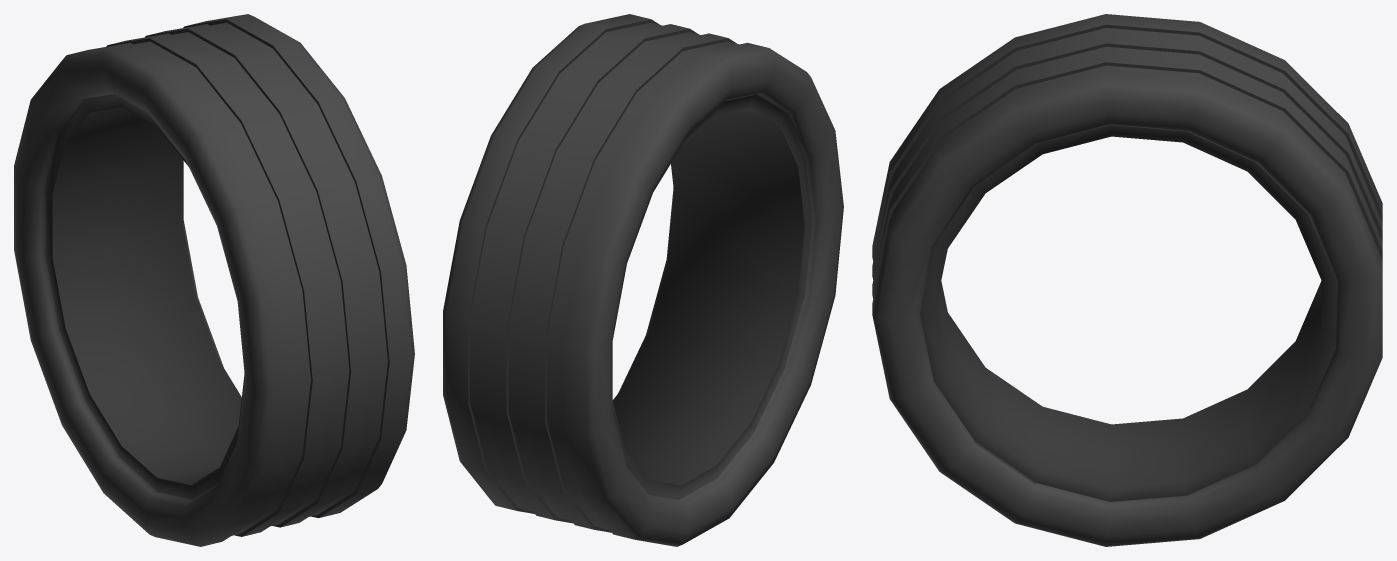
File: Tire.FBX
3 renders of one model, left to right at view 1: azimuth 30°, elevation 25°; view 2: azimuth 150°, elevation 25°; view 3: azimuth 270°, elevation 25°, orthographic.
Visible parts, largest first — view 1: Cylinder001; view 2: Cylinder001; view 3: Cylinder001.
Boxes of the visible parts, x1,y1,x2,y2 form: Cylinder001: (14,14,414,546); Cylinder001: (443,14,843,546); Cylinder001: (872,14,1382,546).
Size of the model in its own units: 22.67 by 63.61 by 63.34.
Materials: 1 (1 with a texture image).
